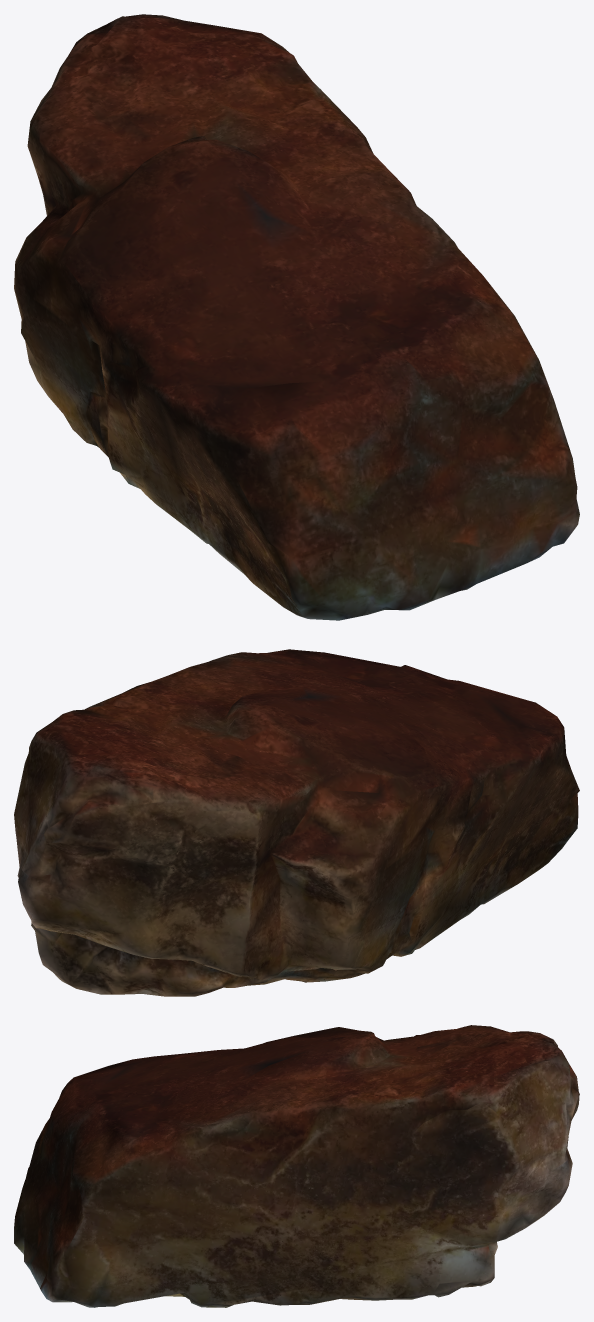
The model's file is rock_07.glb.
3 views of the same model, one above another, from view 1: azimuth 30°, elevation 25°; view 2: azimuth 150°, elevation 25°; view 3: azimuth 270°, elevation 25° (orthographic). The views are drawn at different scales.
Parts seen in each view (by area): view 1: rock_07; view 2: rock_07; view 3: rock_07.
Boxes of the visible parts, x1,y1,x2,y2 form: rock_07: (14, 14, 579, 620); rock_07: (14, 649, 579, 996); rock_07: (14, 1025, 579, 1307).
Size of the model in its own units: 0.1686 by 0.1434 by 0.3199.
Materials: 1 (1 with a texture image).
